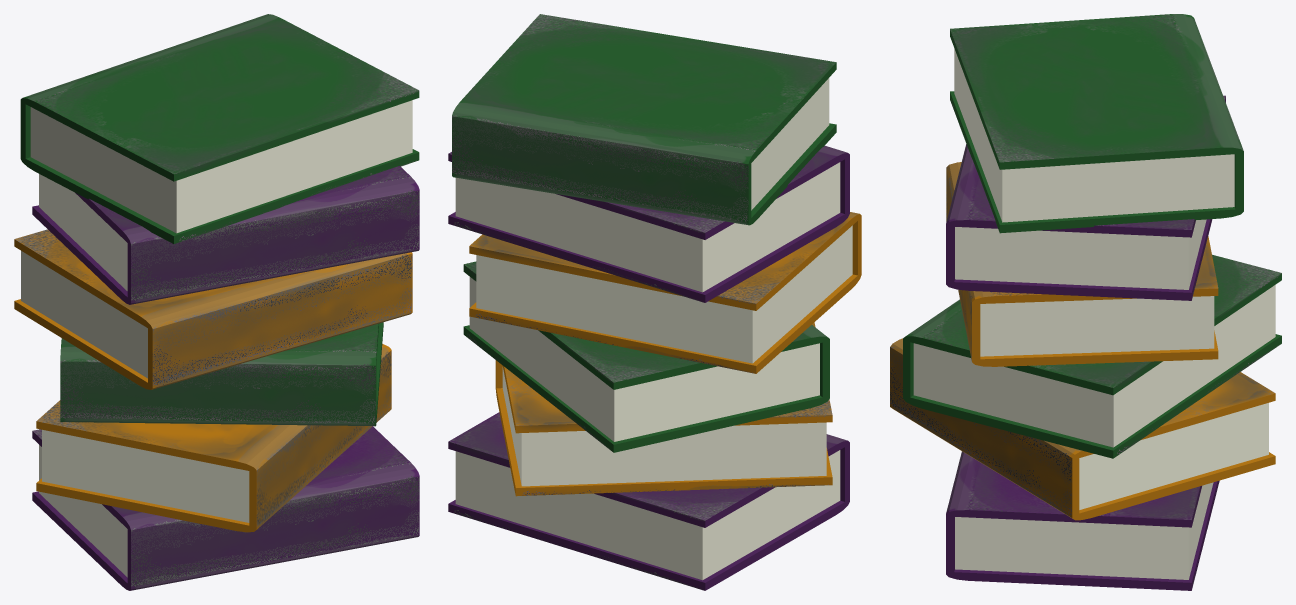
Rendered from Stack-4.fbx.
3 renders of one model, left to right at view 1: azimuth 30°, elevation 25°; view 2: azimuth 150°, elevation 25°; view 3: azimuth 270°, elevation 25°, orthographic.
Visible parts, largest first — view 1: Cube.014; view 2: Cube.014; view 3: Cube.014.
Boxes of the visible parts, <box> form: Cube.014: <box>14,14,419,590</box>; Cube.014: <box>448,14,861,590</box>; Cube.014: <box>890,14,1281,590</box>.
Size of the model in its own units: 21.7 by 24.66 by 20.34.
12 materials, 6 textured.
